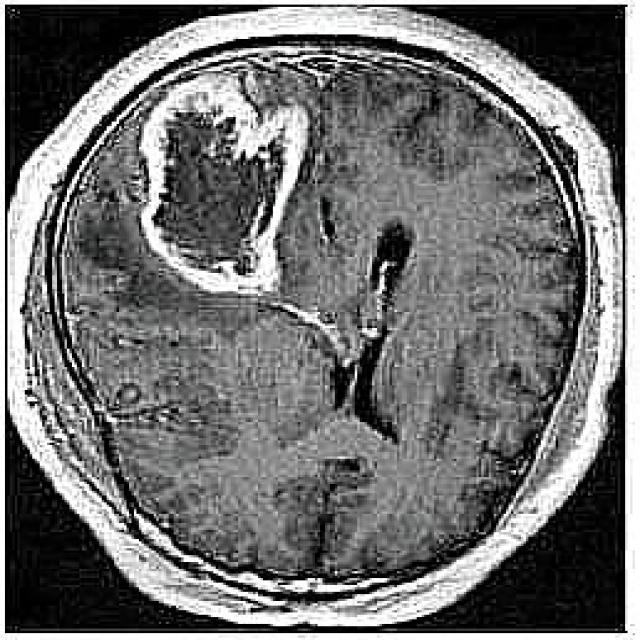Tumor-Cell: (144, 69, 312, 305)
